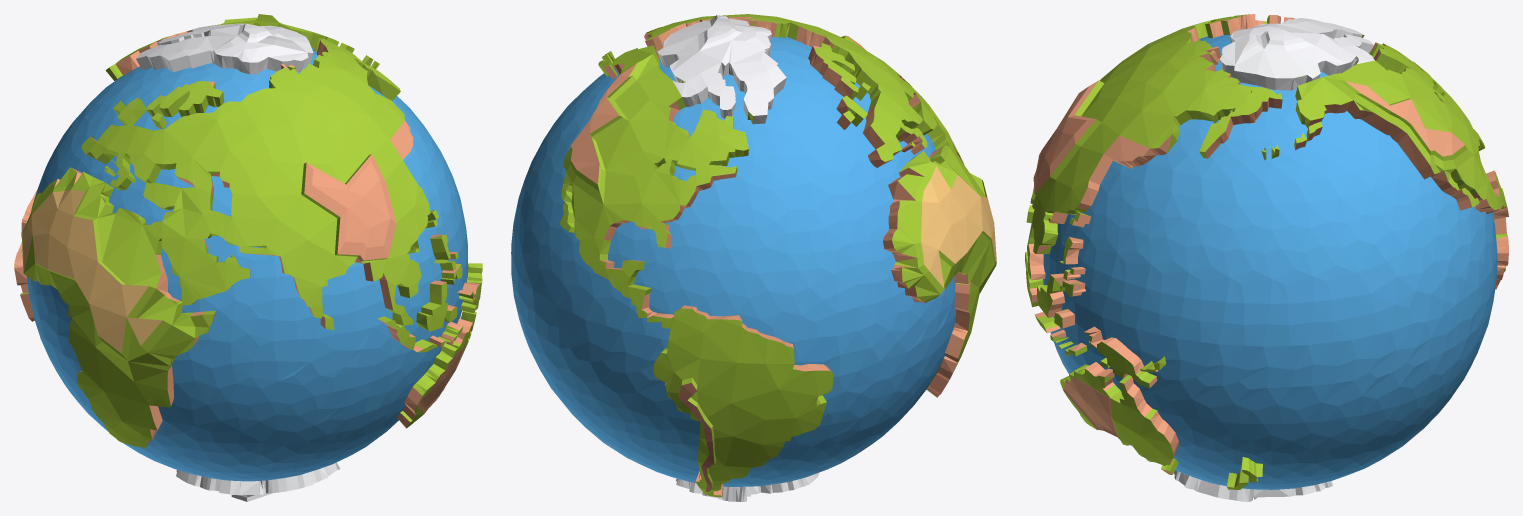
File: earth-transformed.glb
The picture shows the model from 3 angles, left to right: view 1: azimuth 30°, elevation 25°; view 2: azimuth 150°, elevation 25°; view 3: azimuth 270°, elevation 25°; orthographic projection. The views are drawn at different scales.
Parts seen in each view (by area): view 1: Object_Planet_0; view 2: Object_Planet_0; view 3: Object_Planet_0.
Part boxes in pixels (left/top/right/bottom): Object_Planet_0: left=14, top=14, right=482, bottom=501; Object_Planet_0: left=511, top=14, right=996, bottom=501; Object_Planet_0: left=1025, top=14, right=1508, bottom=501.
Bounding box in the file's own units: 2.09 × 2.23 × 2.09.
Materials: 1 (1 with a texture image).
